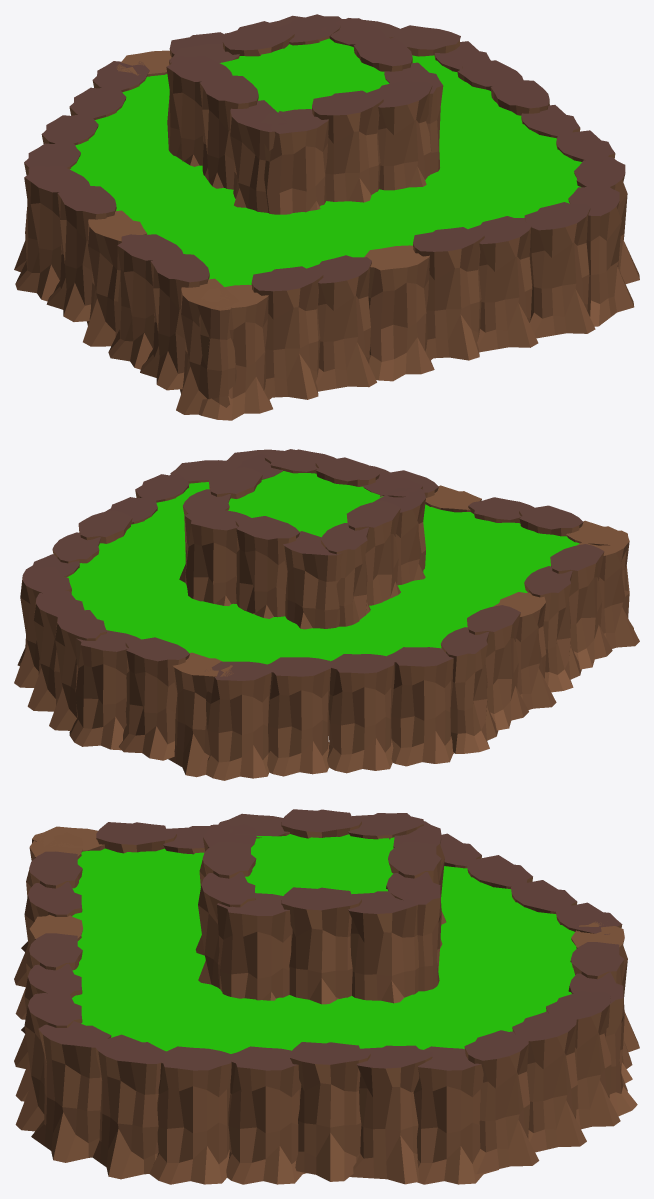
The model's file is structure_cliff_2.fbx.
3 views of the same model, one above another, from view 1: azimuth 30°, elevation 25°; view 2: azimuth 150°, elevation 25°; view 3: azimuth 270°, elevation 25° (orthographic). The views are drawn at different scales.
Visible parts, largest first — view 1: cliff; view 2: cliff; view 3: cliff.
Part boxes in pixels (box(x1,y1,x2,y2)): cliff: box(14, 14, 639, 420); cliff: box(14, 449, 639, 780); cliff: box(14, 809, 639, 1184).
Size of the model in its own units: 2476 by 912 by 2563.
